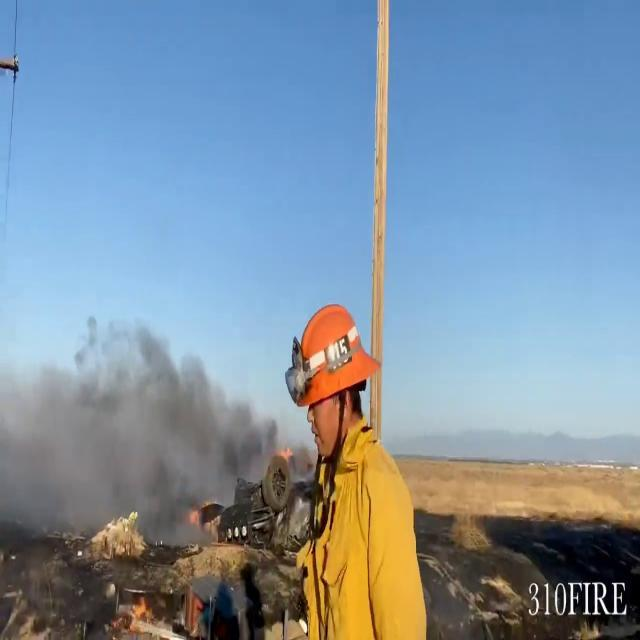Smoke: (0, 300, 278, 543)
